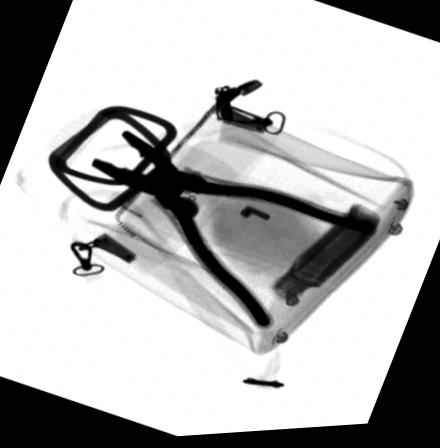Pliers: (88, 129, 379, 334)
